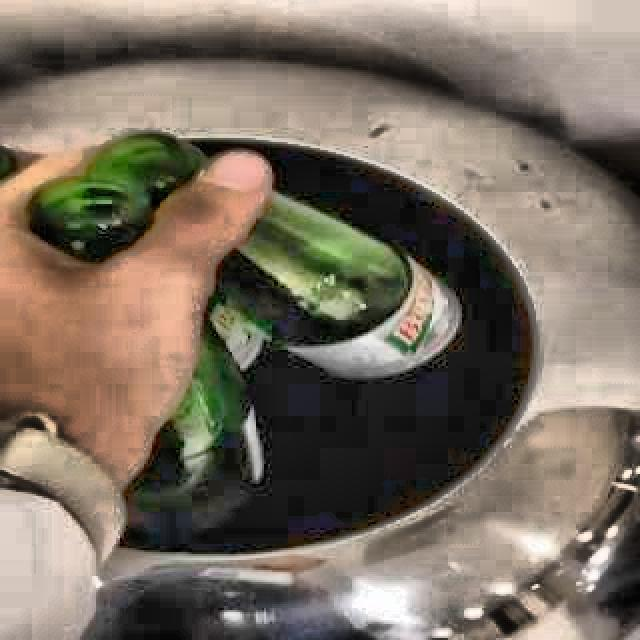glass: (27, 132, 205, 264)
